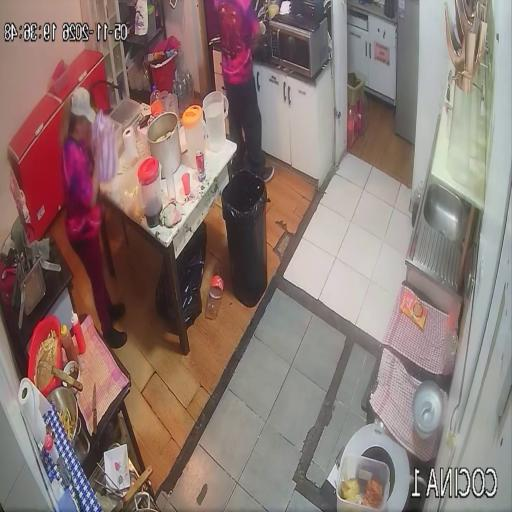Basurero: (222, 170, 267, 306)
Cuchillo1: (93, 380, 98, 433)
Envase Ketchup: (71, 313, 86, 354)
Envase Llajua: (61, 325, 78, 362)
Jarra1: (138, 156, 162, 227)
Jarra2: (181, 100, 203, 162)
Jarra3: (178, 83, 199, 109)
Microondas: (269, 15, 329, 77)
Persona1: (214, 0, 274, 182)
Persona2: (61, 88, 127, 347)
Tapa de olla: (412, 380, 446, 439)
Tapa1: (110, 92, 143, 131)
Taper2: (336, 455, 390, 512)
Taper4: (117, 161, 143, 221)
Vaso1: (182, 173, 191, 196)
olla1: (147, 112, 181, 175)
